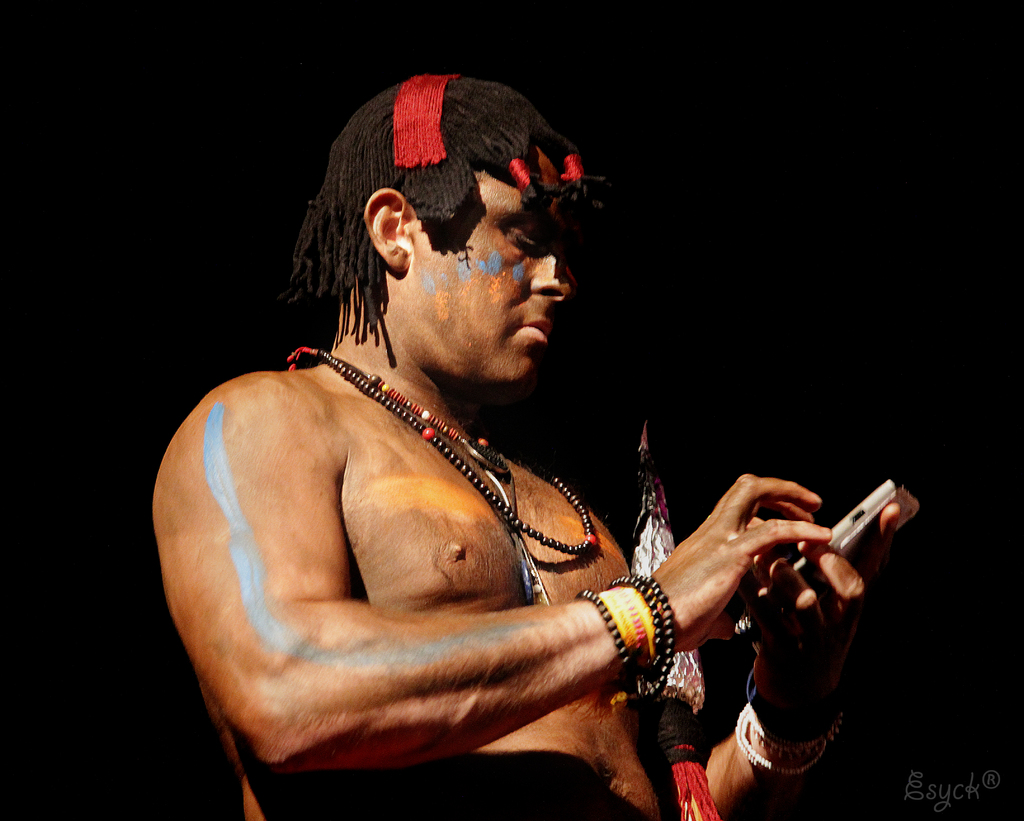Mobile-phone: (795, 478, 920, 587)
